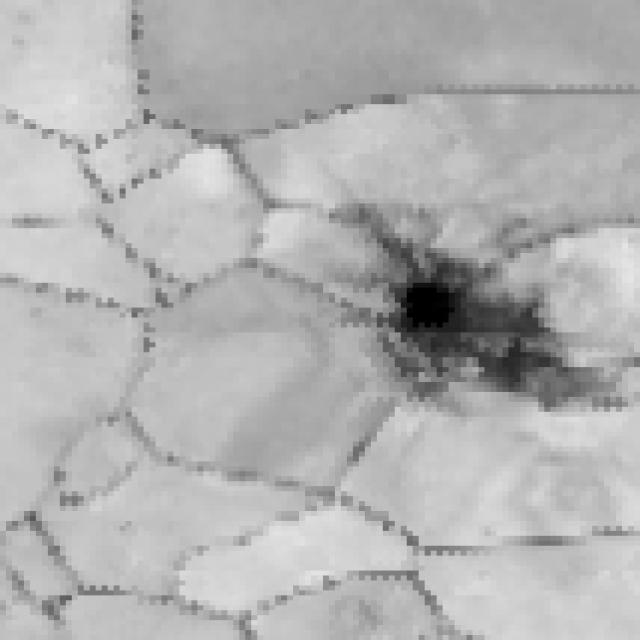good_void: (327, 203, 640, 443), (39, 465, 103, 513), (334, 434, 378, 474)
